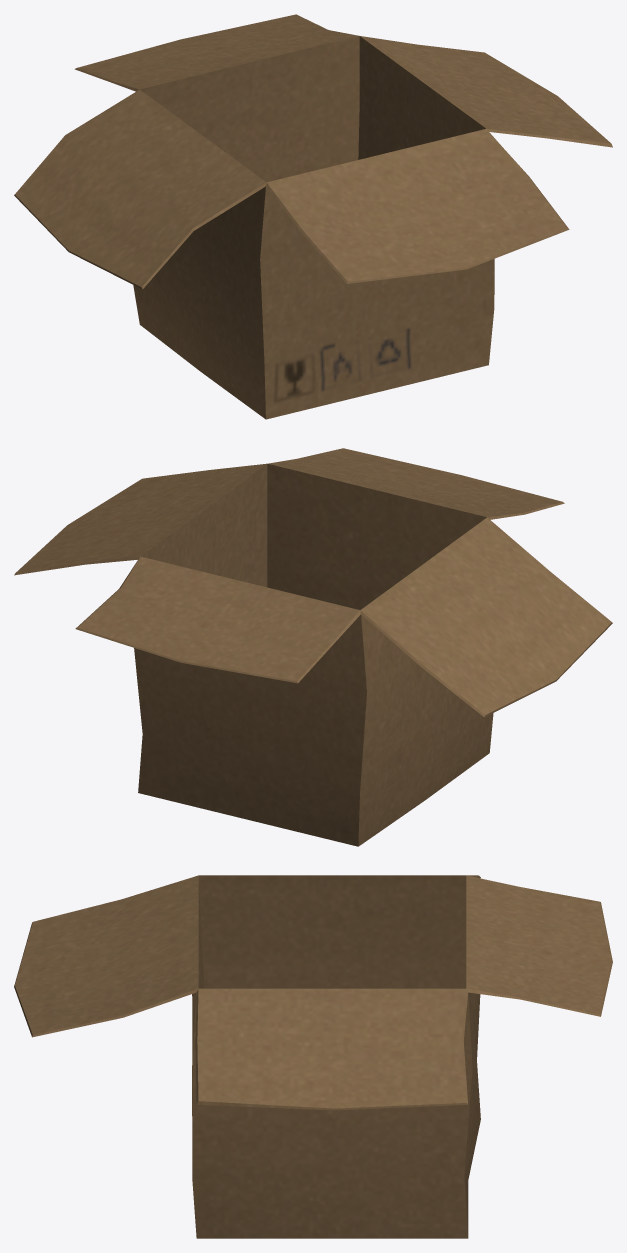
The model's file is Open cardboard box.fbx.
The picture shows the model from 3 angles, top to bottom: view 1: azimuth 30°, elevation 25°; view 2: azimuth 150°, elevation 25°; view 3: azimuth 270°, elevation 25°; orthographic projection. The views are drawn at different scales.
Visible parts, largest first — view 1: Cube; view 2: Cube; view 3: Cube.
Boxes of the visible parts, box(x1,y1,x2,y2) form: Cube: box(14, 14, 612, 419); Cube: box(14, 448, 612, 846); Cube: box(14, 875, 612, 1238).
Bounding box in the file's own units: 131 × 60.58 × 132.
1 material, 1 textured.
